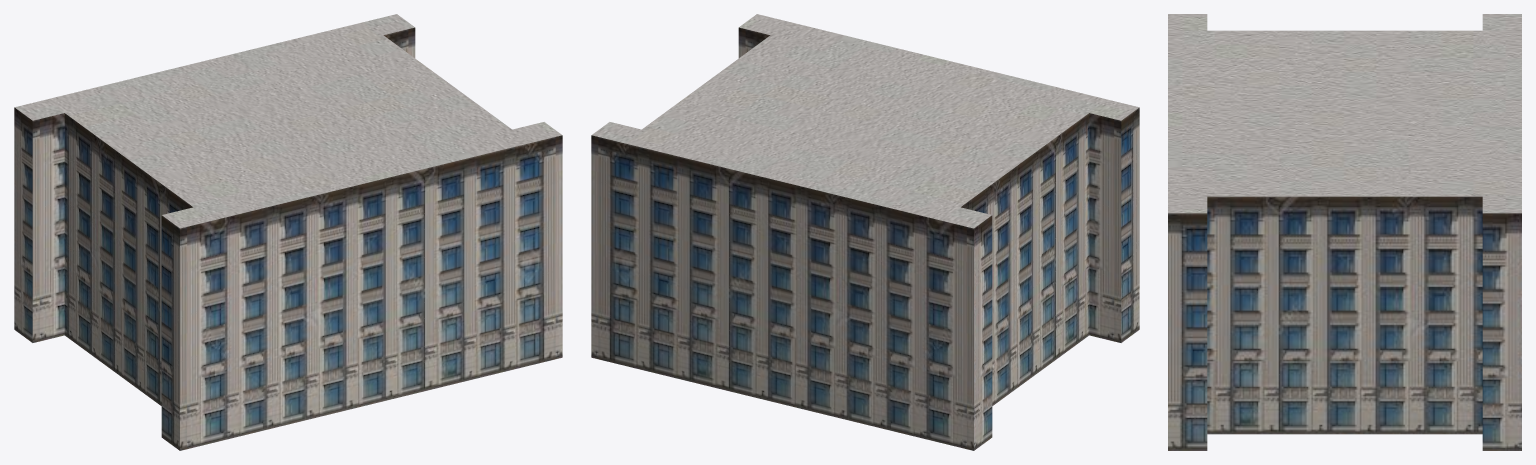
Rendered from building_035.glb.
3 renders of one model, left to right at view 1: azimuth 30°, elevation 25°; view 2: azimuth 150°, elevation 25°; view 3: azimuth 270°, elevation 25°, orthographic. The views are drawn at different scales.
Visible parts, largest first — view 1: building_035; view 2: building_035; view 3: building_035.
Part boxes in pixels (x1=…): building_035: x1=14, y1=14, x2=562, y2=450; building_035: x1=591, y1=14, x2=1139, y2=450; building_035: x1=1168, y1=14, x2=1521, y2=450.
Bounding box in the file's own units: 1800 × 1000 × 1350.
Materials: 2 (2 with a texture image).
